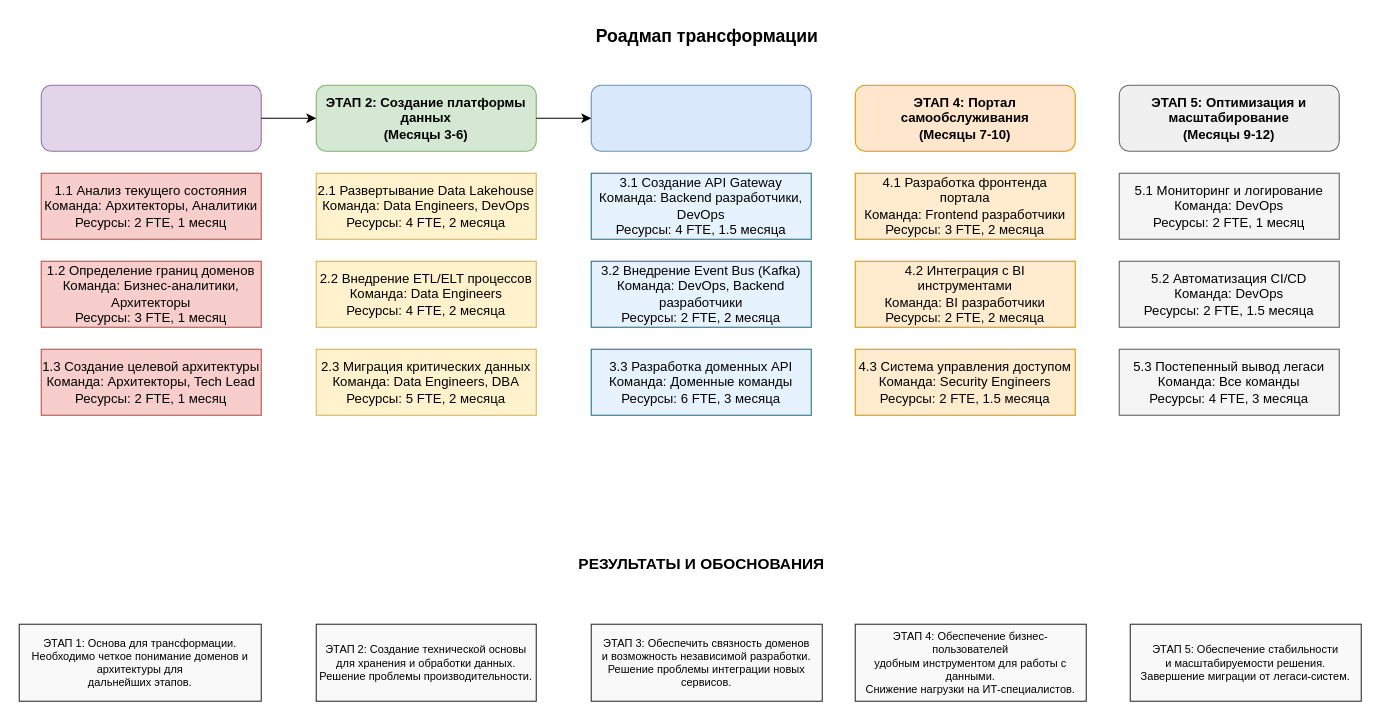
This 1381x721 diagram has some shape labels left out. The shapes that lost their labels are listed below. From the top down, each one's centre as x and y in pixels, then its label:
At point (150, 117): "ЭТАП 1: Подготовка и планирование (Месяцы 1-2)".
At point (700, 117): "ЭТАП 3: Интеграция доменов (Месяцы 5-8)".
